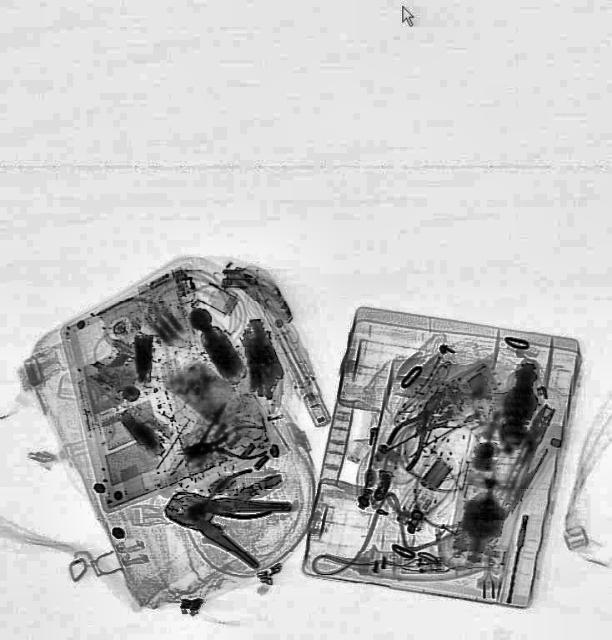Pliers: (153, 463, 295, 572), (376, 378, 458, 472), (178, 463, 274, 539), (173, 422, 269, 468)
